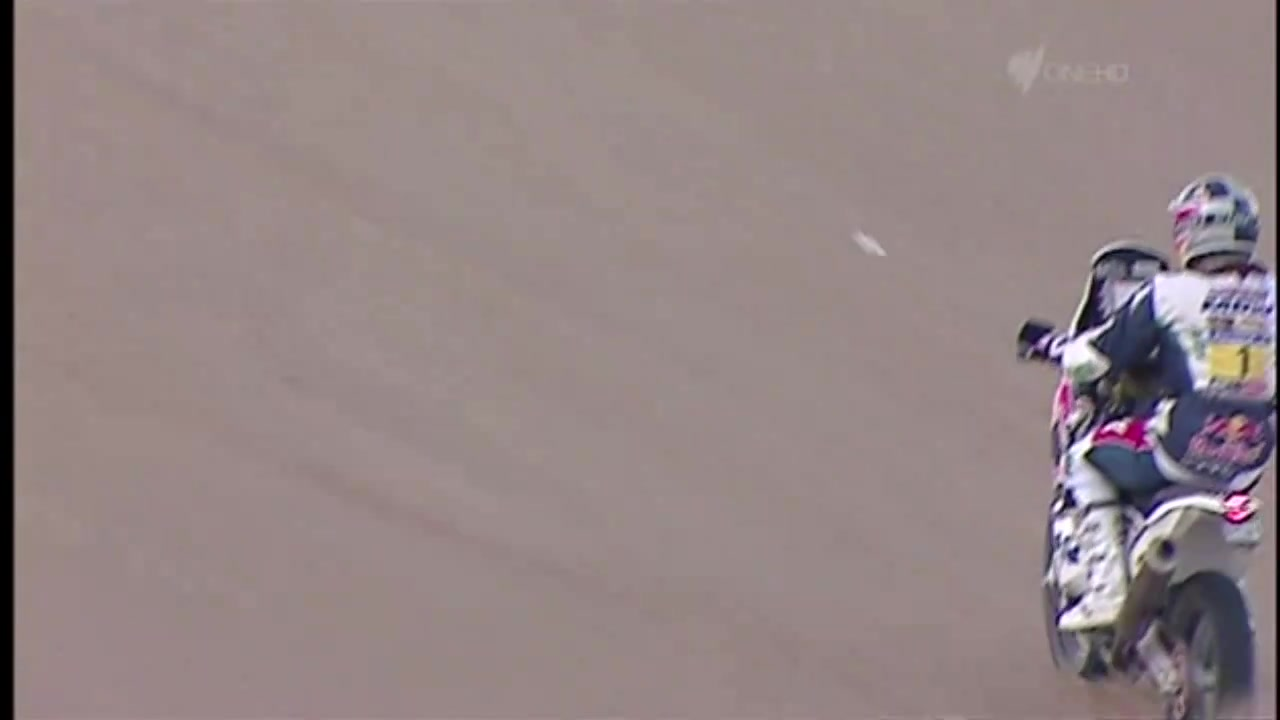motorbike: (1017, 246, 1275, 720)
